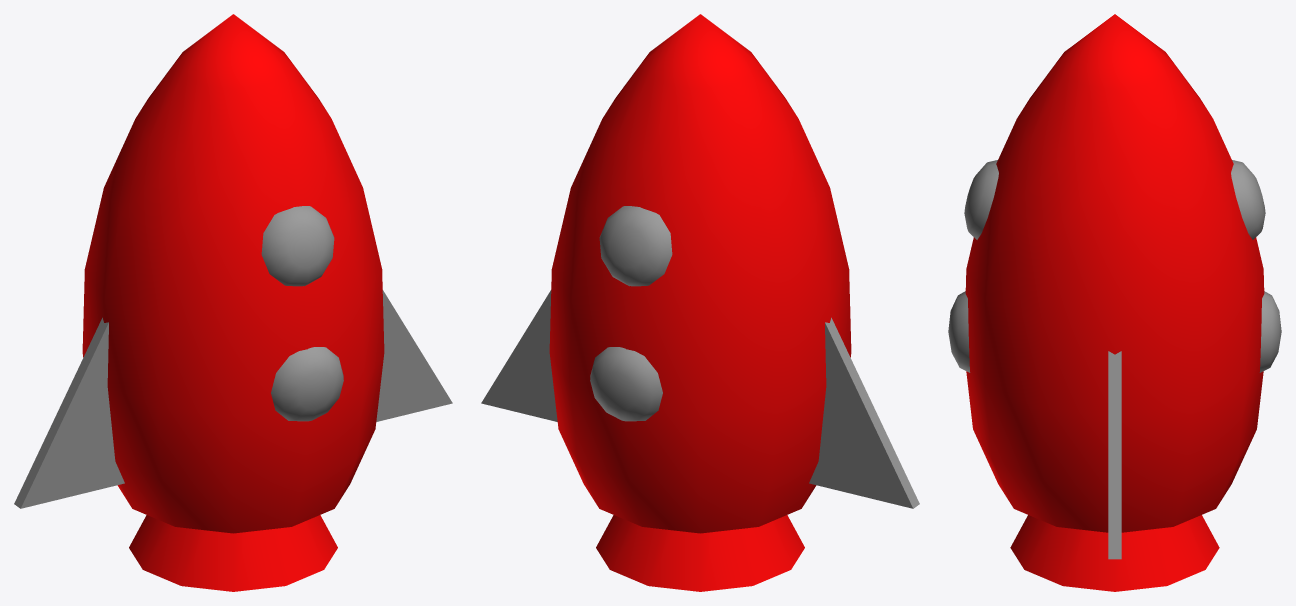
File: model_ship01.FBX
3 views of the same model, side by side, from view 1: azimuth 30°, elevation 25°; view 2: azimuth 150°, elevation 25°; view 3: azimuth 270°, elevation 25° (orthographic).
Visible parts, largest first — view 1: mesh_ship01; view 2: mesh_ship01; view 3: mesh_ship01.
Part boxes in pixels (x1=…): mesh_ship01: x1=14, y1=14, x2=452, y2=591; mesh_ship01: x1=481, y1=14, x2=919, y2=591; mesh_ship01: x1=948, y1=14, x2=1281, y2=591.
Size of the model in its own units: 32.14 by 37.92 by 21.47.
